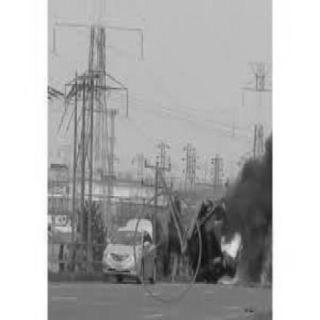Smoke: (223, 146, 271, 238)
